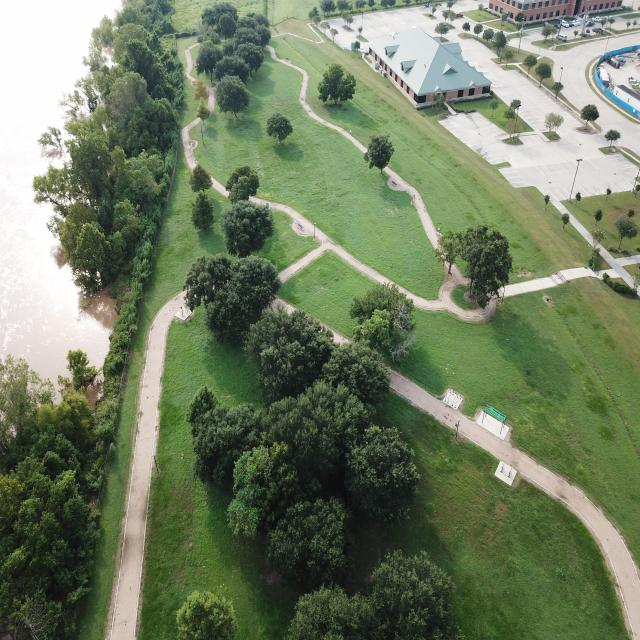fire: (0, 0, 119, 386)
